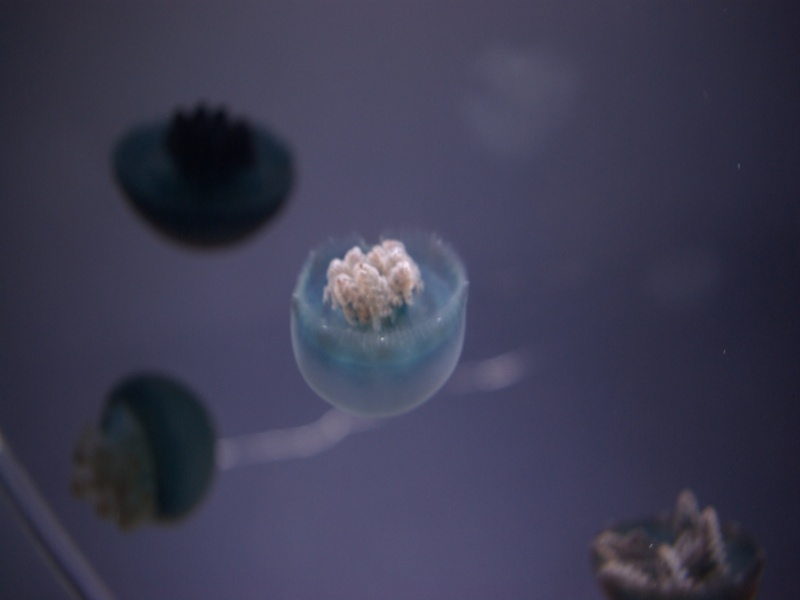Jellyfish: (287, 226, 470, 418), (106, 106, 293, 261), (70, 372, 224, 524), (587, 492, 757, 599)
